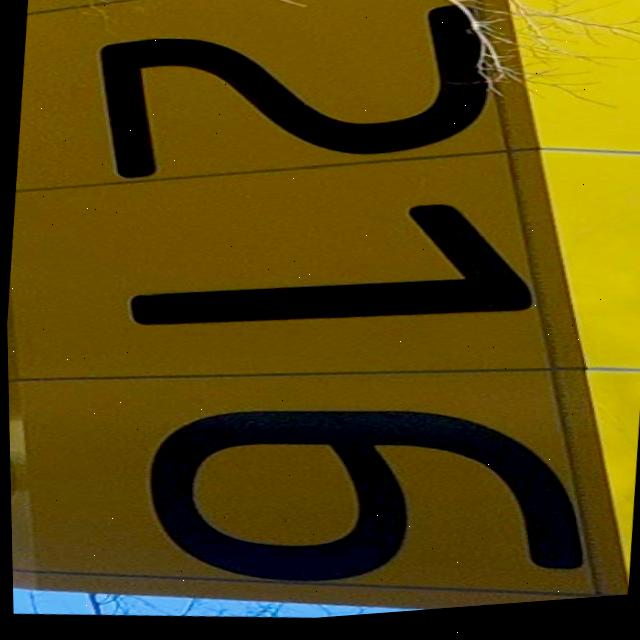character: (125, 370, 610, 623), (75, 0, 511, 217), (118, 167, 551, 363)
